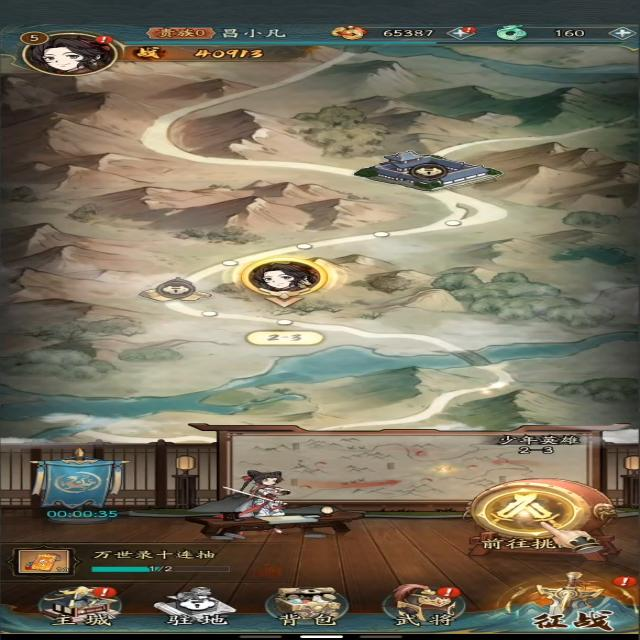hint-reddot: (86, 586, 125, 598), (436, 586, 467, 599), (85, 33, 114, 45), (614, 575, 638, 586), (460, 25, 478, 34)
navigation-bag: (260, 581, 354, 630)
navigation-fight: (497, 567, 639, 634)
navigation-hero: (374, 579, 472, 629)
navigation-main: (22, 582, 129, 628)
navigation-role: (11, 26, 131, 80)
navigation-station-off: (153, 583, 238, 627)
operation-challenge: (467, 478, 615, 555)
